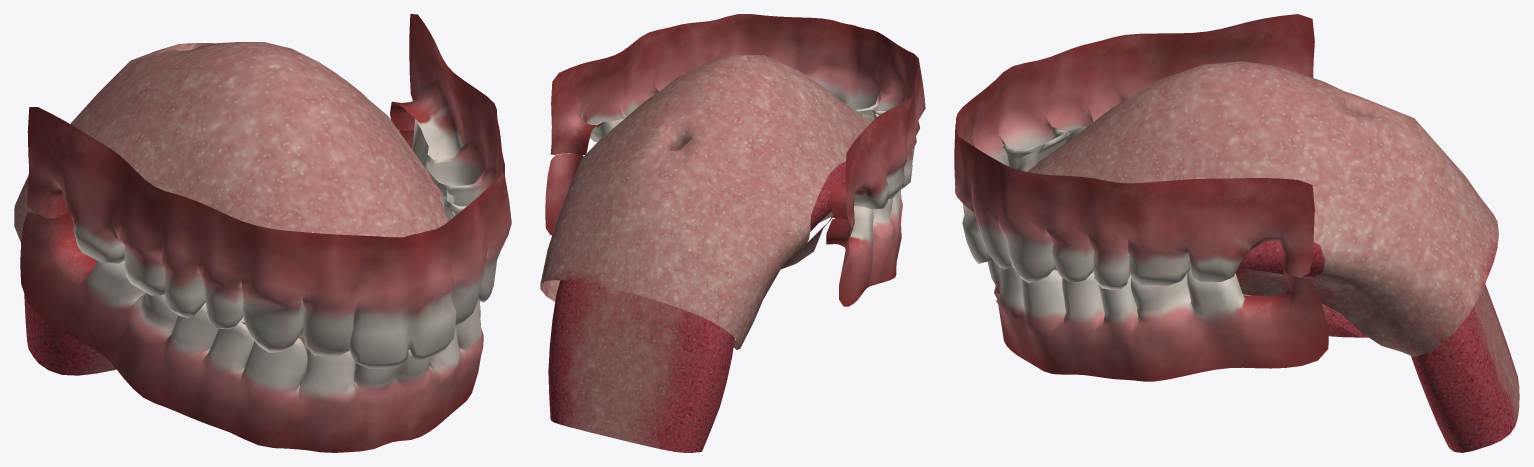
File: orial cavity.obj
3 views of the same model, side by side, from view 1: azimuth 30°, elevation 25°; view 2: azimuth 150°, elevation 25°; view 3: azimuth 270°, elevation 25° (orthographic). The views are drawn at different scales.
Parts seen in each view (by area): view 1: orial_teeth_lp; view 2: orial_teeth_lp; view 3: orial_teeth_lp.
Boxes of the visible parts, x1,y1,x2,y2 form: orial_teeth_lp: [14, 14, 511, 452]; orial_teeth_lp: [540, 14, 925, 452]; orial_teeth_lp: [954, 14, 1519, 452].
Bounding box in the file's own units: 1.22 × 1.18 × 1.71.
